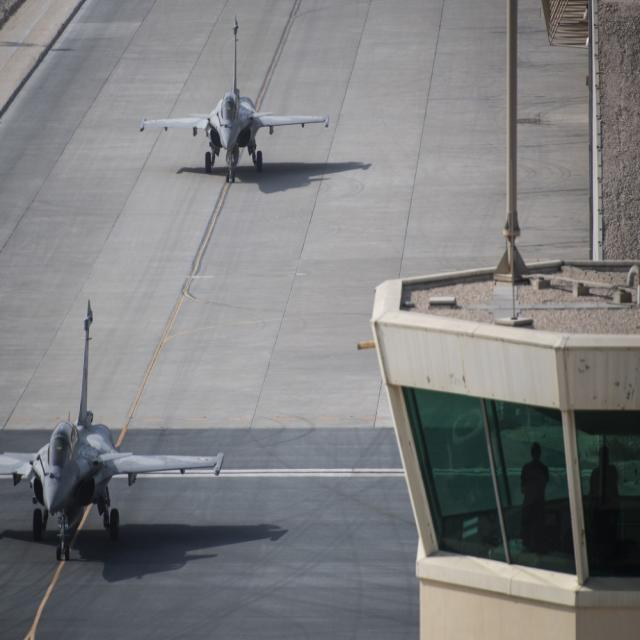MIL_Plane: (1, 298, 224, 559), (139, 13, 329, 182)
